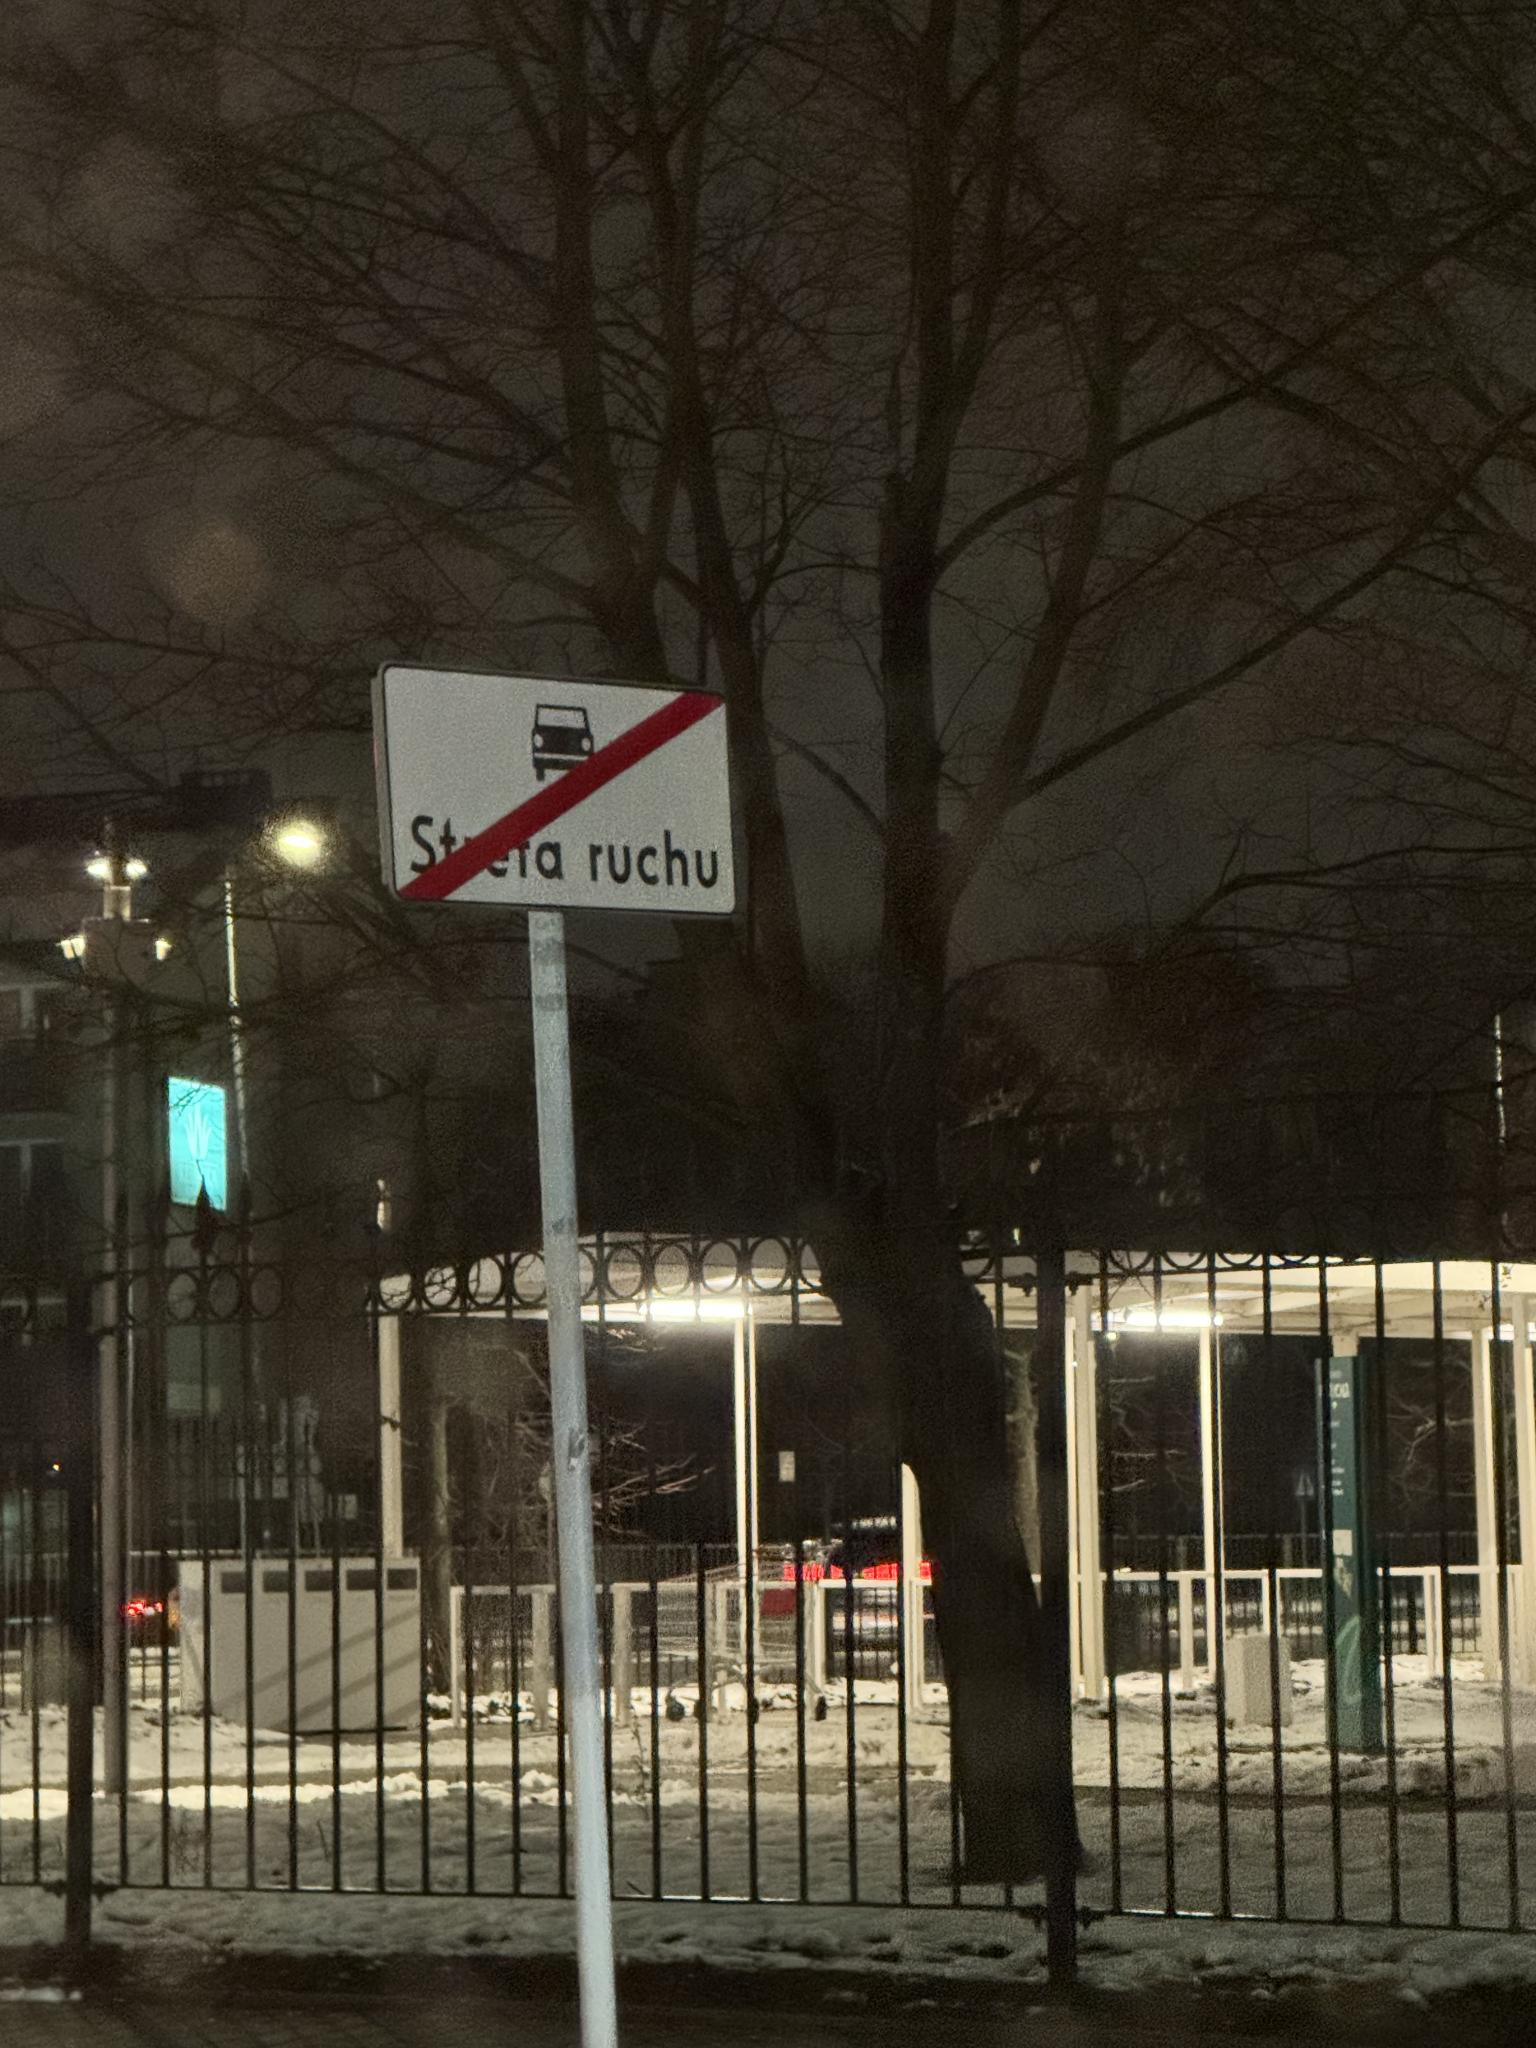information: (366, 656, 744, 922)
